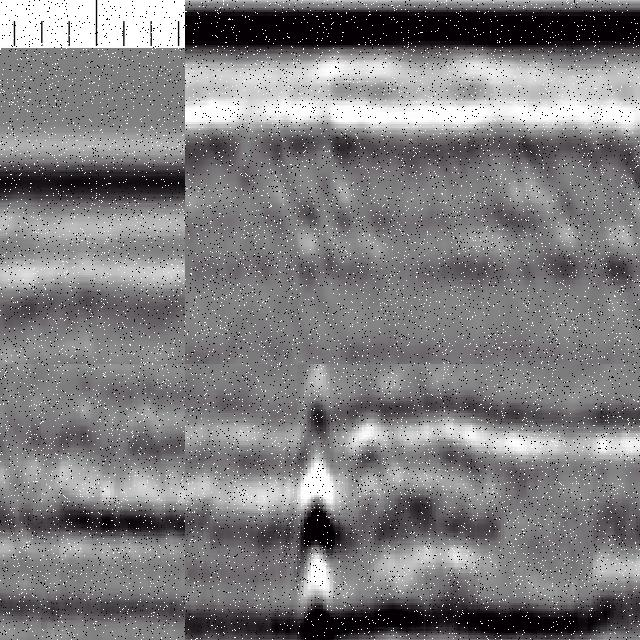crack: (294, 365, 337, 640)
loose: (283, 158, 640, 268), (1, 274, 119, 365), (1, 369, 53, 539)
